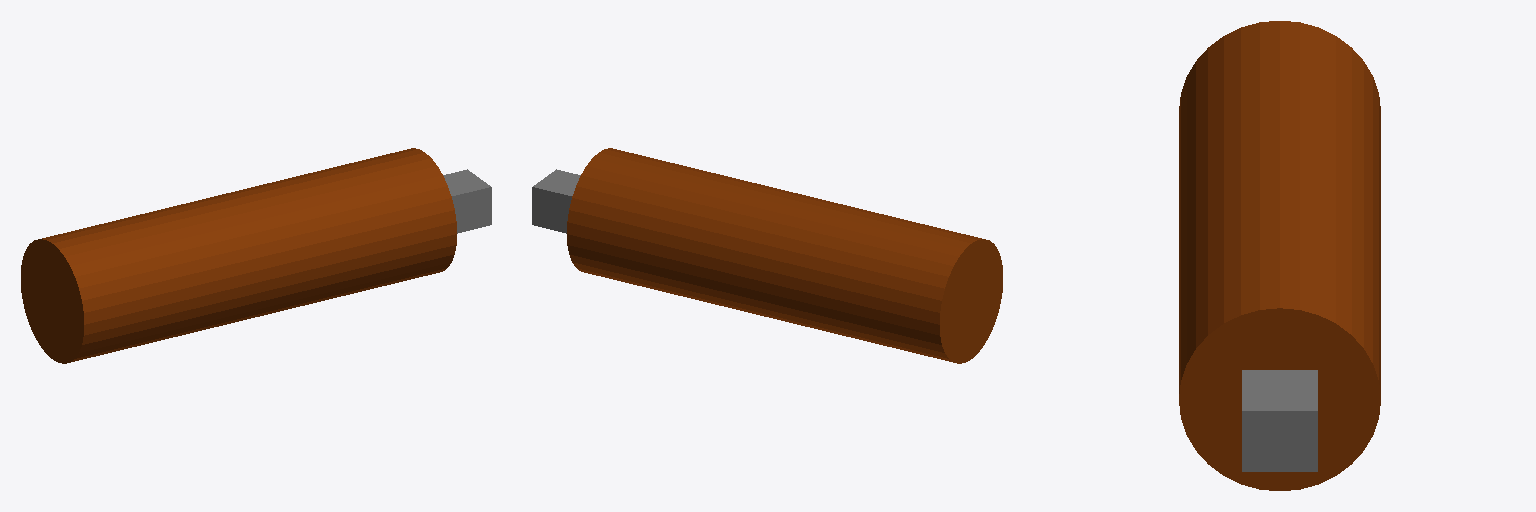
The robot description file, URDF, robot "handle_head":
<?xml version="1.0"?>
<robot name="handle_head">

  <link name="handle_head">
    <!-- Handle -->
    <visual>
              <origin xyz="0 0 0" rpy="0 -1.5707963267948966 0"/>
        <geometry>
          <cylinder length="0.07570189603558235" radius="0.011242933581389909"/>
        </geometry>
        
      <material name="brown">
        <color rgba="0.55 0.27 0.07 1.0"/>
      </material>
    </visual>
    <collision>
              <origin xyz="0 0 0" rpy="0 -1.5707963267948966 0"/>
        <geometry>
          <cylinder length="0.07570189603558235" radius="0.011242933581389909"/>
        </geometry>
        
    </collision>

    <!-- Head -->
    <visual>
              <origin xyz="0.04335068819956748 0 0" rpy="0 0 0"/>
        <geometry>
          <box size="0.010999480363552609 0.008427037971215459 0.007434940341078652"/>
        </geometry>
        
      <material name="gray">
        <color rgba="0.5 0.5 0.5 1.0"/>
      </material>
    </visual>
    <collision>
              <origin xyz="0.04335068819956748 0 0" rpy="0 0 0"/>
        <geometry>
          <box size="0.010999480363552609 0.008427037971215459 0.007434940341078652"/>
        </geometry>
        
    </collision>

    <inertial>
      <origin xyz="0.0013692245714706731 0 0" rpy="0 0 0"/>
      <mass value="0.012421811744110509"/>
      <inertia ixx="7.392796112931111e-07" iyy="9.416239578904417e-06" izz="9.416754089293858e-06" ixy="0" ixz="0" iyz="0"/>
    </inertial>
  </link>

</robot>

--- What the picture shows (computed from the rendered views, not written in the file) ---
3 views of the same robot in one strip: view 1: azimuth 30°, elevation 25°; view 2: azimuth 150°, elevation 25°; view 3: azimuth 270°, elevation 25° (orthographic).
Robot: handle_head — 1 links, 0 joints (none); root link handle_head; default pose: every joint at zero.
Visible links, largest first — view 1: handle_head; view 2: handle_head; view 3: handle_head.
Link boxes in pixels (x1,y1,x2,y2): handle_head: [21, 148, 491, 363]; handle_head: [532, 148, 1002, 363]; handle_head: [1179, 21, 1380, 490].
Size in the robot's own frame: 0.0867 by 0.0225 by 0.0225 metres.
Geometry: primitives only (box / cylinder / sphere), no mesh files.
